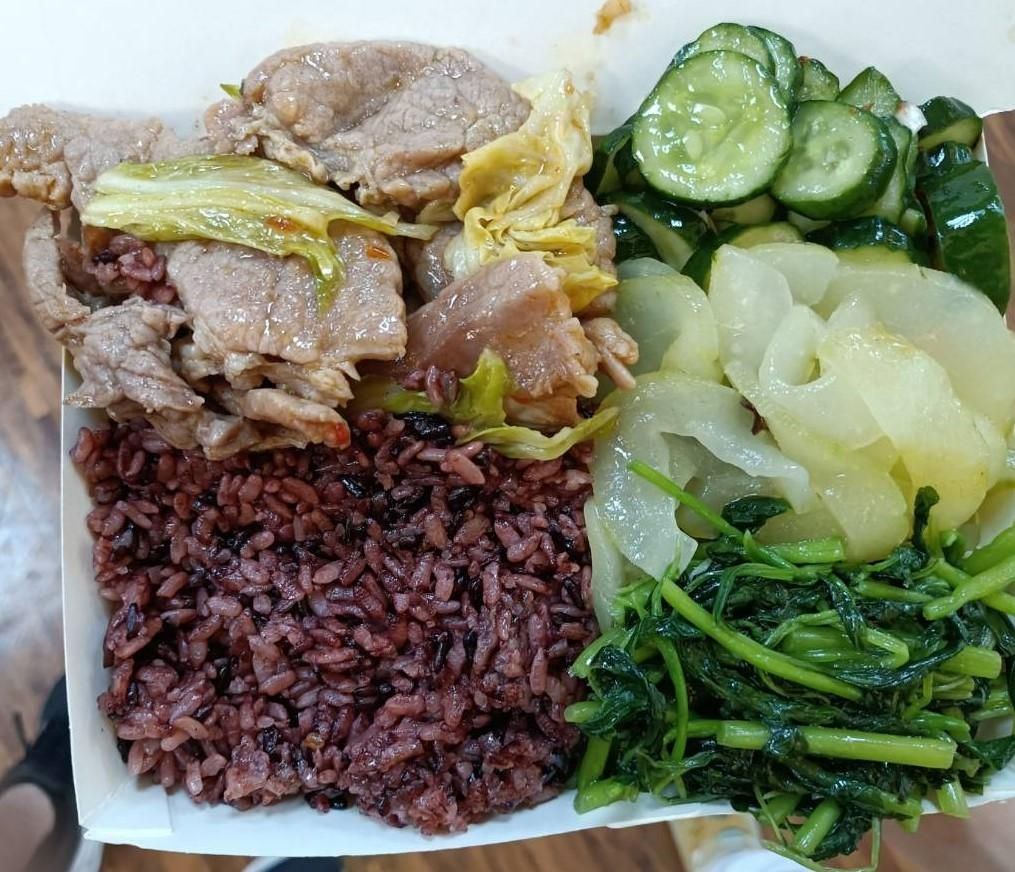big grilled chicken leg: (6, 58, 1015, 868)
braised fish: (82, 430, 605, 833)
braised fish fillet: (616, 250, 1013, 564), (608, 536, 1015, 830), (603, 32, 1003, 276)
braised pork: (22, 56, 605, 436)
